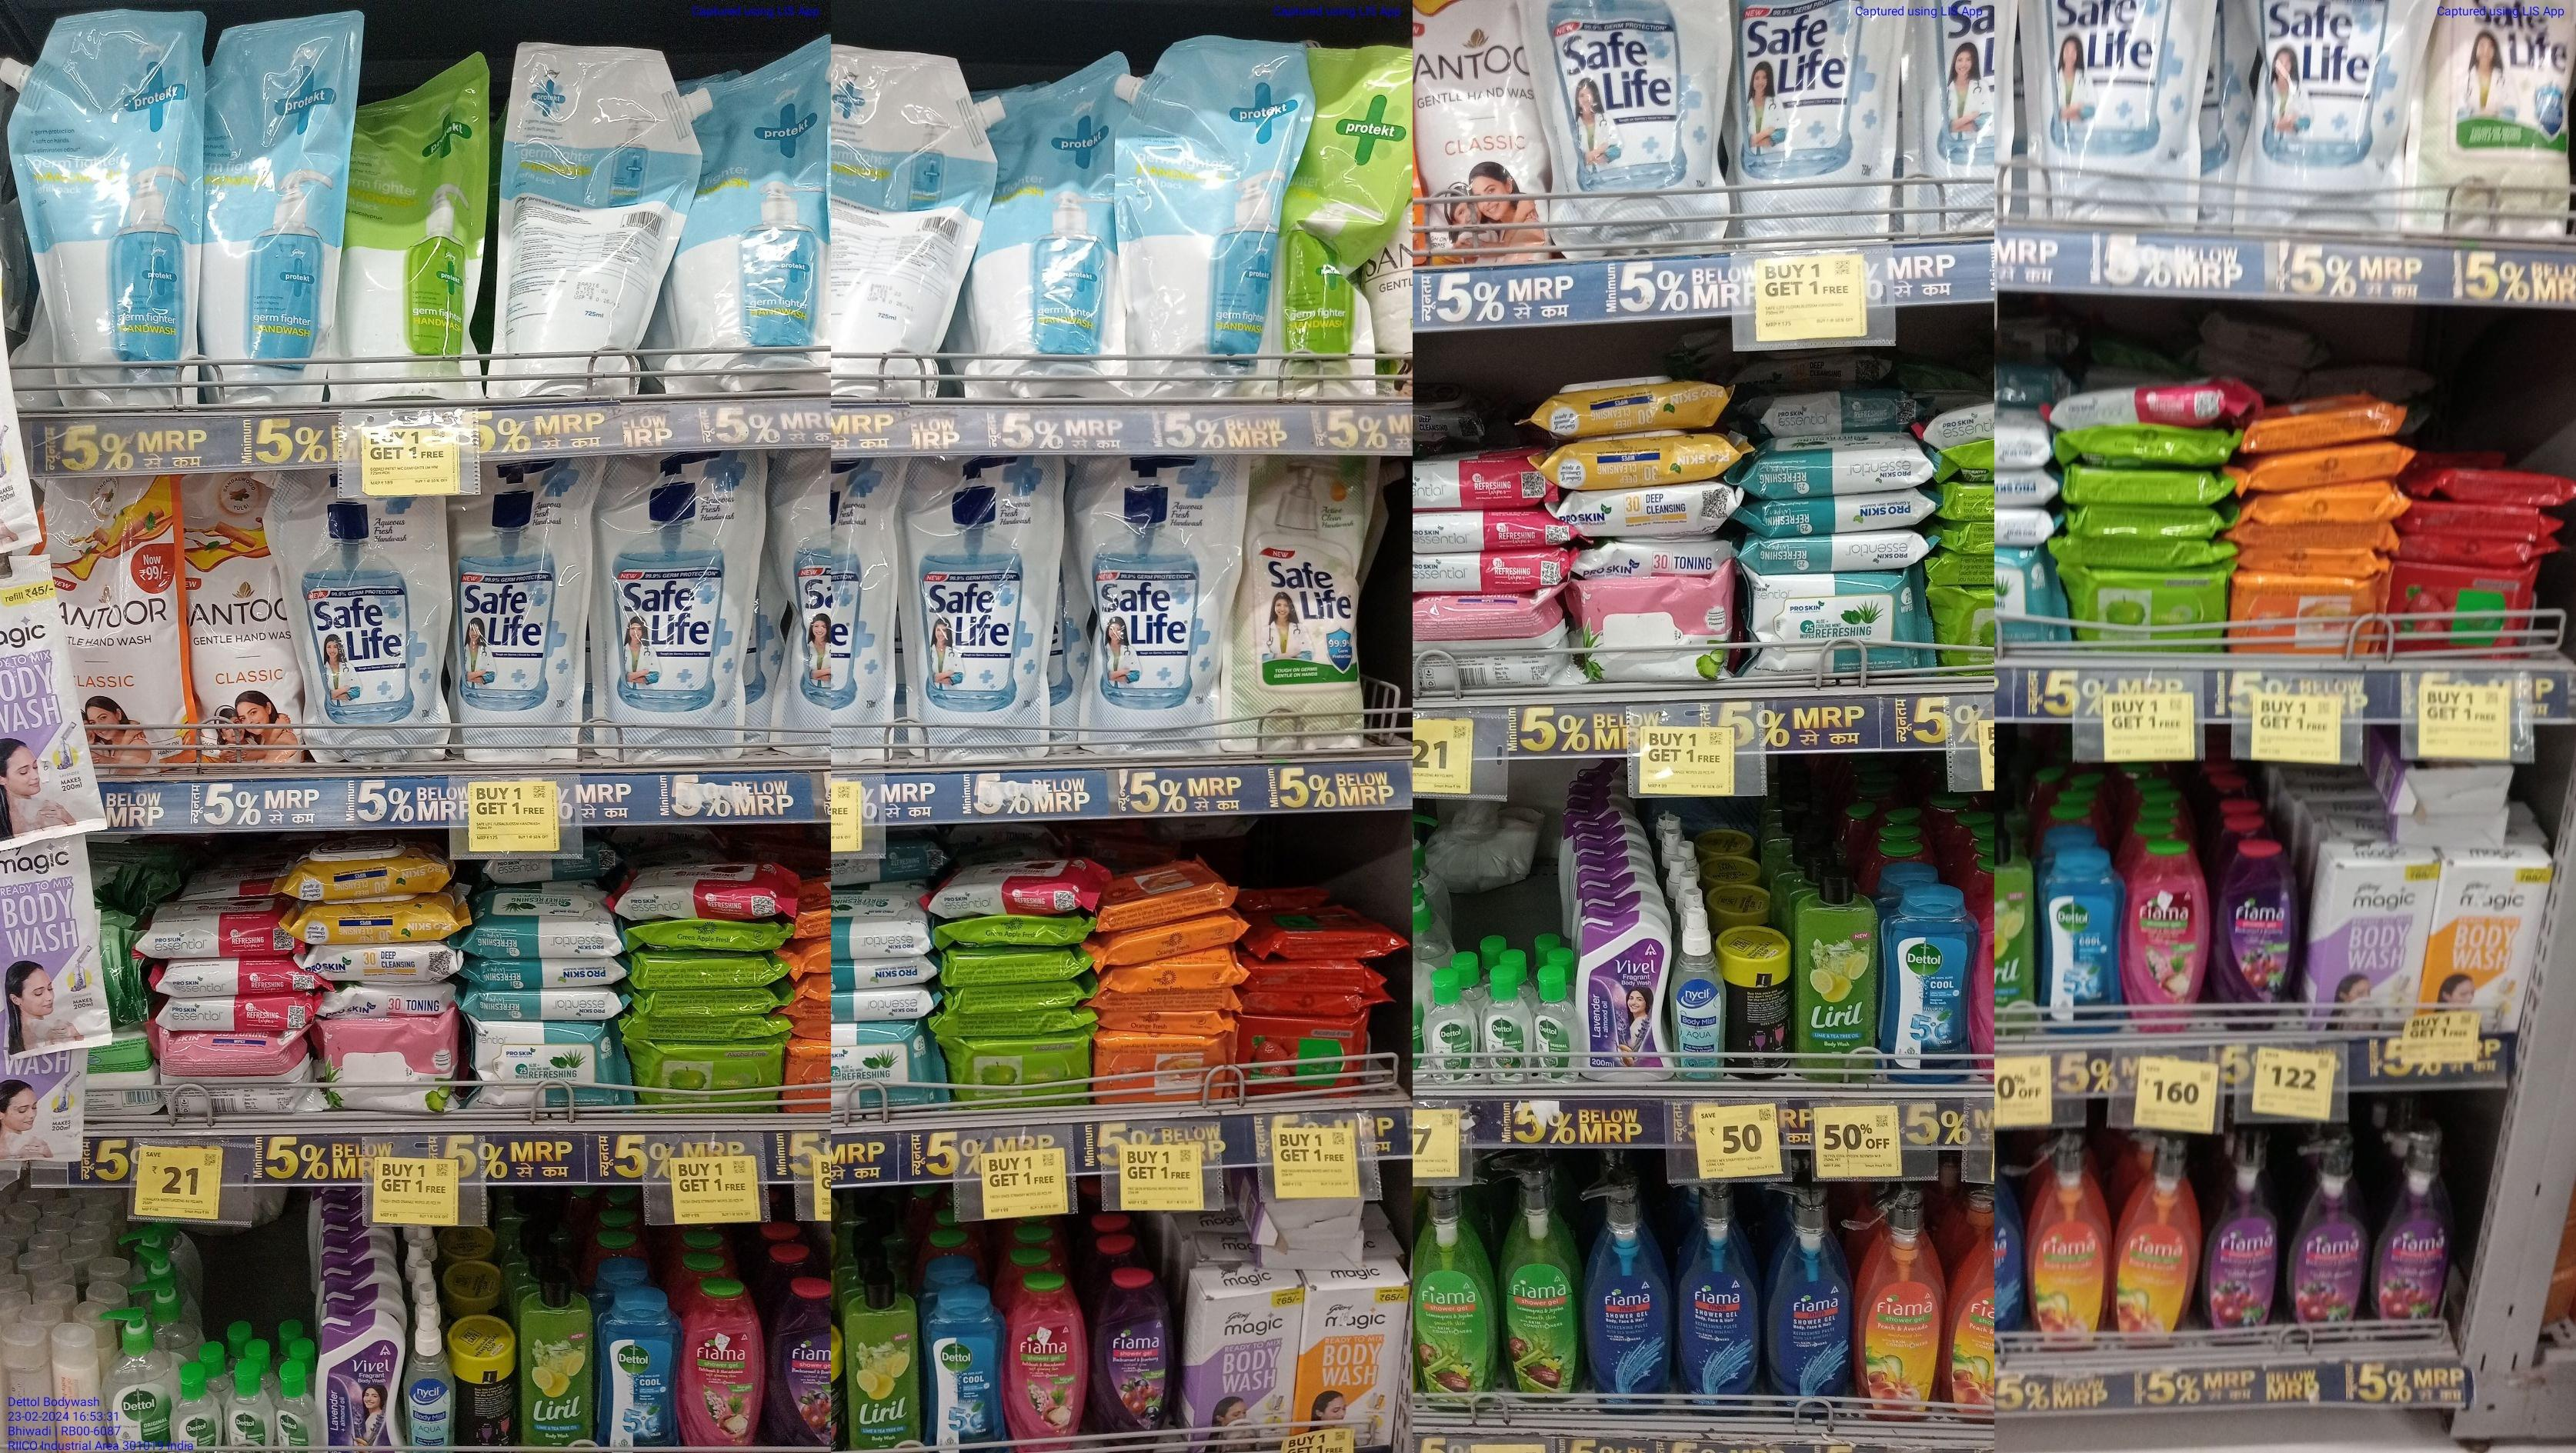Dettol_Bodywash_Cool: (1881, 894, 1976, 1082), (2043, 856, 2121, 1031), (924, 1296, 1005, 1449), (598, 1297, 679, 1448)
Fiama_Shower_Gel_Patchouli_and_Macadamia_250ML: (2125, 847, 2210, 1031), (679, 1287, 763, 1446), (1008, 1282, 1085, 1444)
Liril_Lime_and_Tea_Tree_Oil_Body_Wash_250ML: (1794, 877, 1879, 1080), (517, 1278, 594, 1449), (844, 1283, 922, 1449)
